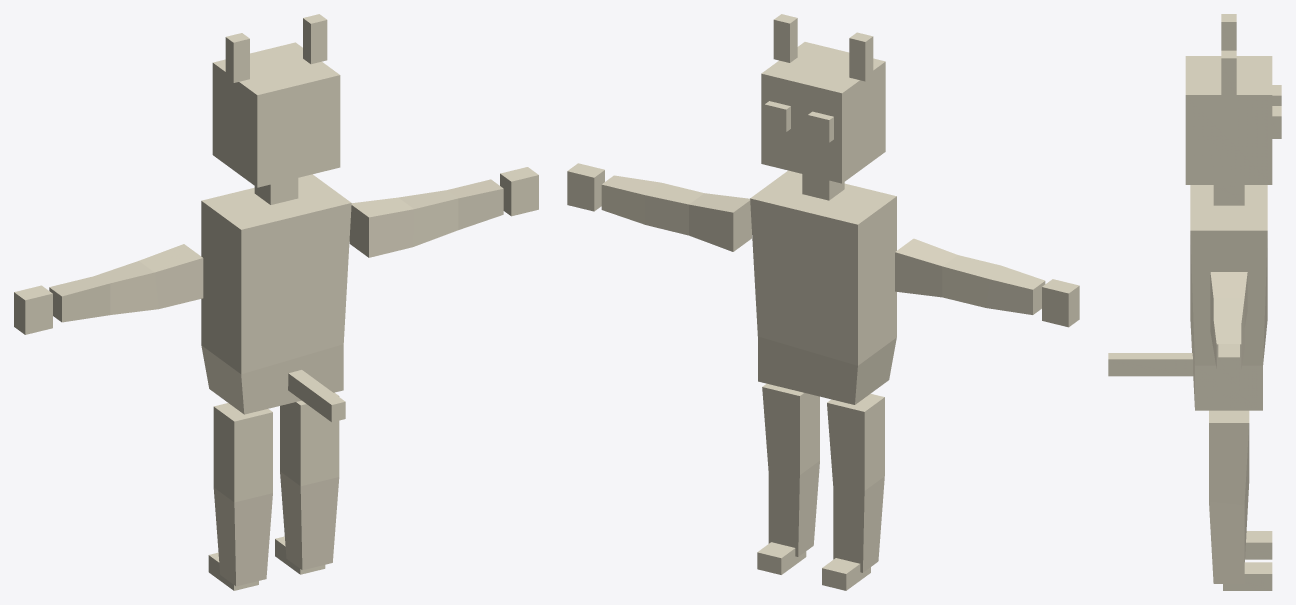
File: 35f7b67e-dc63-45c4-8e66-d5b4579cebe0_final.glb
3 renders of one model, left to right at view 1: azimuth 30°, elevation 25°; view 2: azimuth 150°, elevation 25°; view 3: azimuth 270°, elevation 25°, orthographic. The views are drawn at different scales.
Visible parts, largest first — view 1: Character; view 2: Character; view 3: Character.
Boxes of the visible parts, <box> form: Character: <box>14,14,538,590</box>; Character: <box>567,14,1079,590</box>; Character: <box>1108,14,1281,590</box>.
Bounding box in the file's own units: 1.86 × 1.9 × 0.56.
